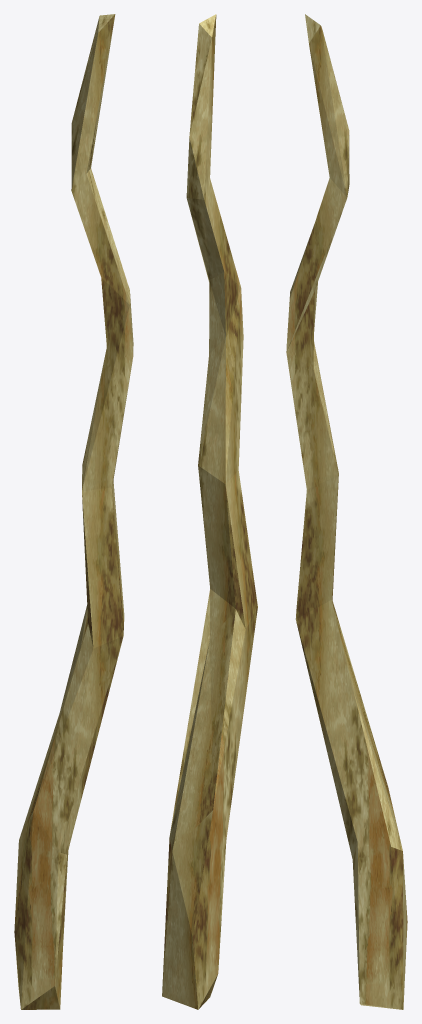
Rendered from Forest_1_Euc_1.gltf.
3 renders of one model, left to right at view 1: azimuth 90°, elevation 25°; view 2: azimuth 150°, elevation 25°; view 3: azimuth 270°, elevation 25°, orthographic. The views are drawn at different scales.
Visible parts, largest first — view 1: Forest_1_Euc_1; view 2: Forest_1_Euc_1; view 3: Forest_1_Euc_1.
Boxes of the visible parts, <box> form: Forest_1_Euc_1: <box>14,14,133,1009</box>; Forest_1_Euc_1: <box>162,14,257,1009</box>; Forest_1_Euc_1: <box>286,14,407,1009</box>.
Bounding box in the file's own units: 1.47 × 27.02 × 2.96.
1 material, 1 textured.
